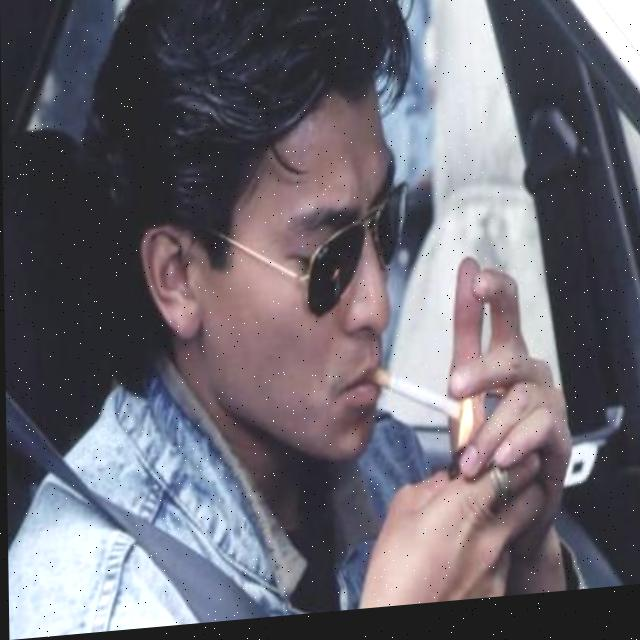cigarette: (373, 368, 461, 440)
